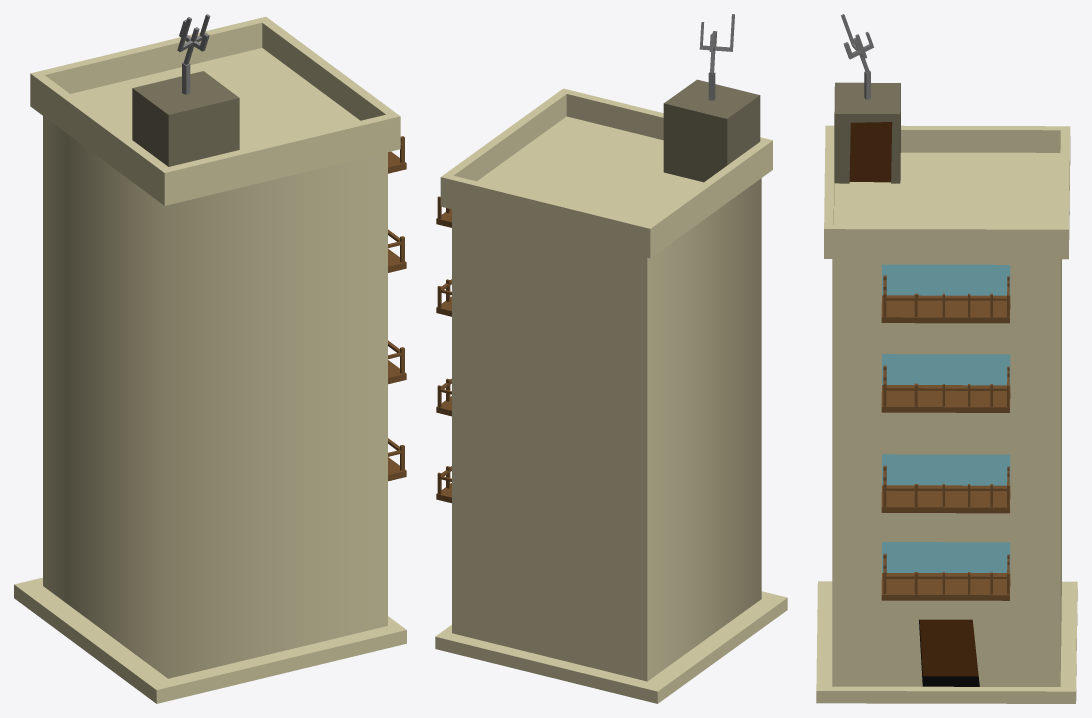
3 views of the same model, side by side, from view 1: azimuth 30°, elevation 25°; view 2: azimuth 150°, elevation 25°; view 3: azimuth 270°, elevation 25° (orthographic). The views are drawn at different scales.
Parts seen in each view (by area): view 1: Circle.004; view 2: Circle.004; view 3: Circle.004.
Part boxes in pixels (x1,y1,x2,y2): Circle.004: (14,14,406,703); Circle.004: (435,14,787,703); Circle.004: (816,14,1077,703).
Bounding box in the file's own units: 502 × 1115 × 440.
